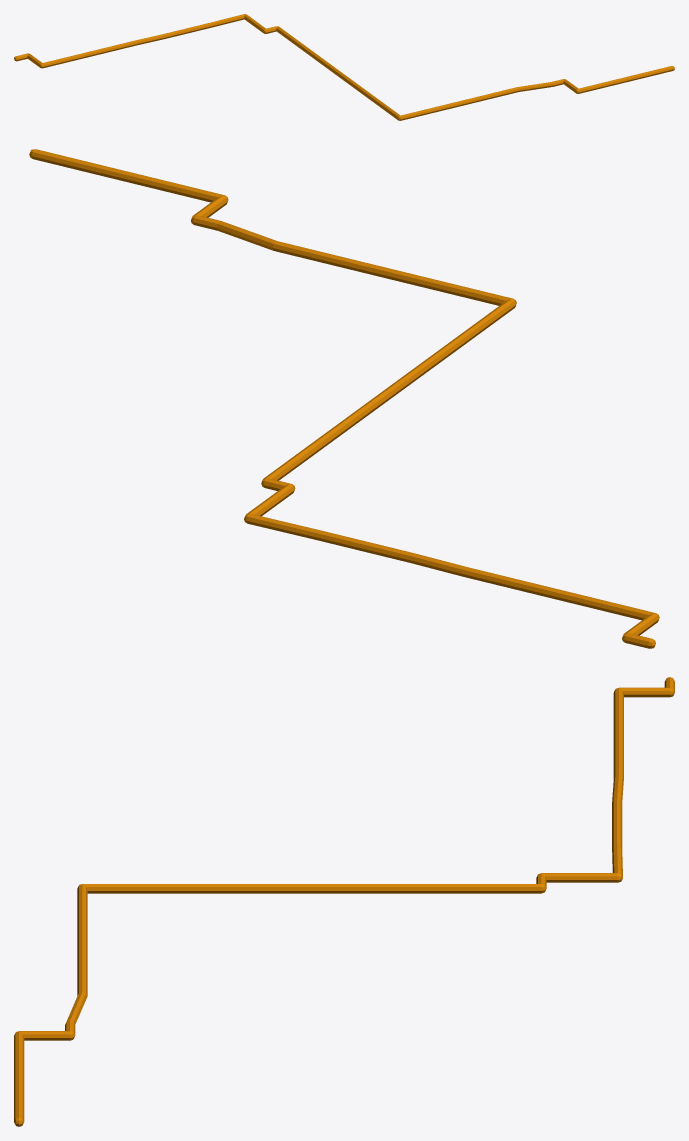
3 renders of one model, top to bottom at view 1: azimuth 30°, elevation 25°; view 2: azimuth 150°, elevation 25°; view 3: azimuth 270°, elevation 25°, orthographic. The views are drawn at different scales.
Bounding box in the file's own units: 2063 × 20 × 1296.
